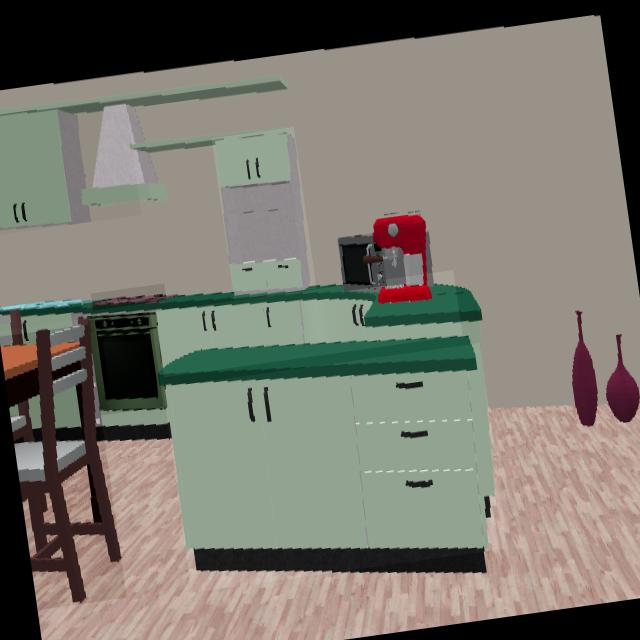cabinet: (164, 370, 495, 552), (156, 301, 462, 365), (0, 110, 134, 232), (215, 129, 310, 295)
chair: (11, 330, 122, 604)
microwave: (338, 235, 382, 290)
oven: (89, 314, 164, 407)
sink: (0, 302, 82, 328)
stove: (92, 290, 166, 309)
table: (1, 338, 46, 415)
